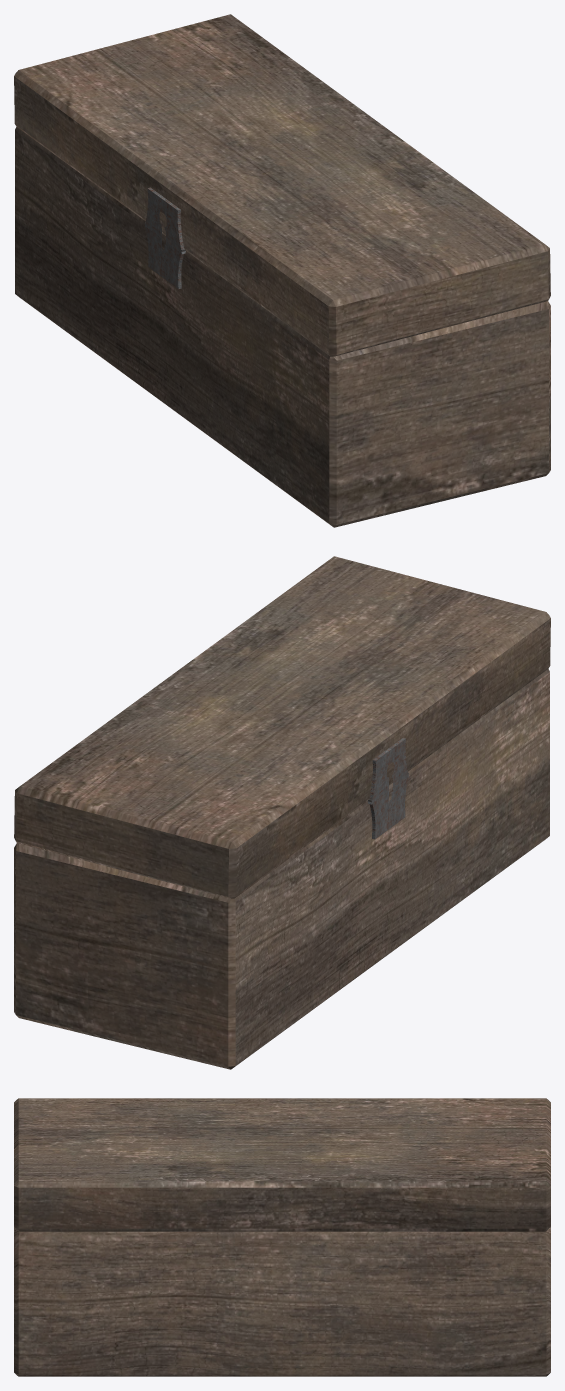
Rendered from chest.glb.
3 views of the same model, one above another, from view 1: azimuth 30°, elevation 25°; view 2: azimuth 150°, elevation 25°; view 3: azimuth 270°, elevation 25° (orthographic). The views are drawn at different scales.
Parts seen in each view (by area): view 1: Chest.001, Chest; view 2: Chest.001, Chest; view 3: Chest, Chest.001.
Boxes of the visible parts, x1,y1,x2,y2 form: Chest.001: (14, 14, 550, 356); Chest: (15, 127, 550, 527); Chest.001: (14, 556, 550, 898); Chest: (14, 669, 549, 1069); Chest: (14, 1227, 550, 1376); Chest.001: (14, 1098, 550, 1231).
Bounding box in the file's own units: 0.8137 × 0.7998 × 2.
2 materials, 2 textured.
